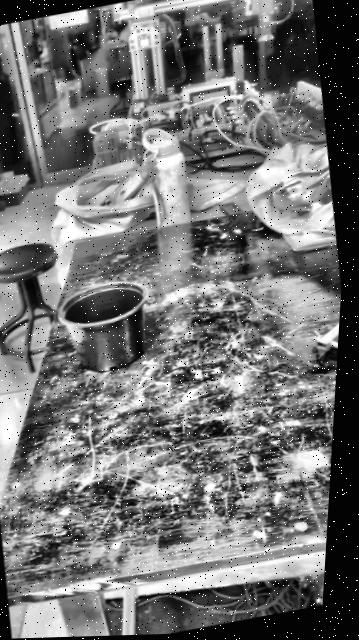pot: (46, 277, 155, 379)
